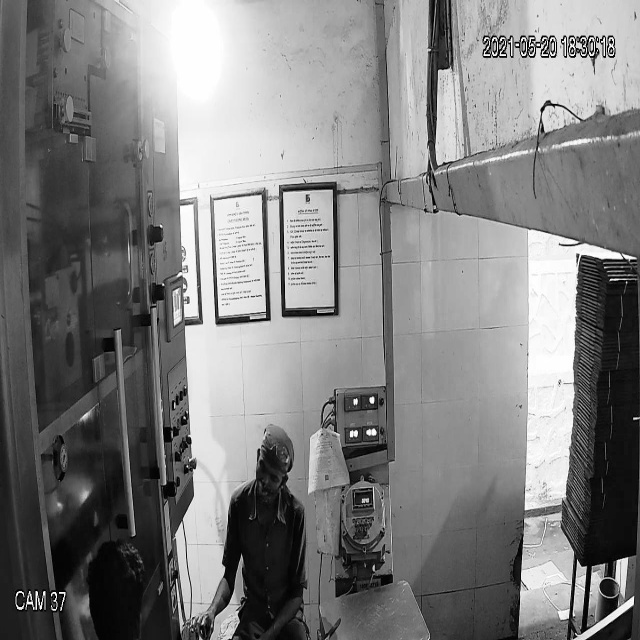Sin_gafas: (256, 458, 282, 488)
